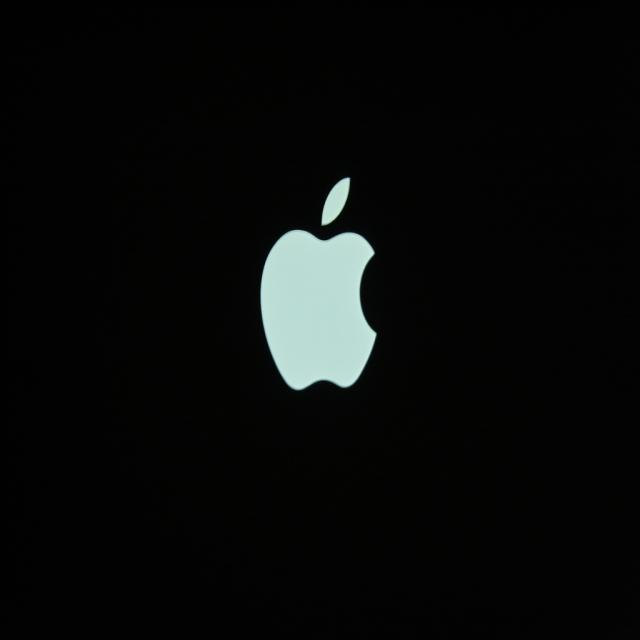Healty Apple: (252, 202, 388, 423)
